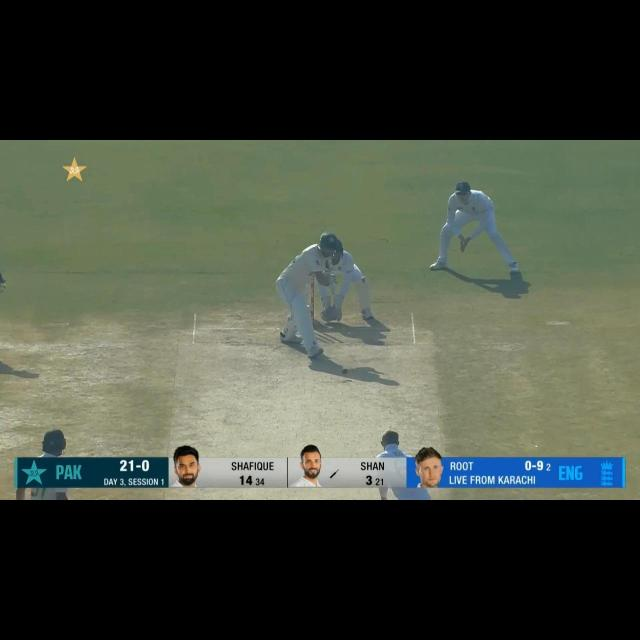bat: (326, 264, 332, 274)
